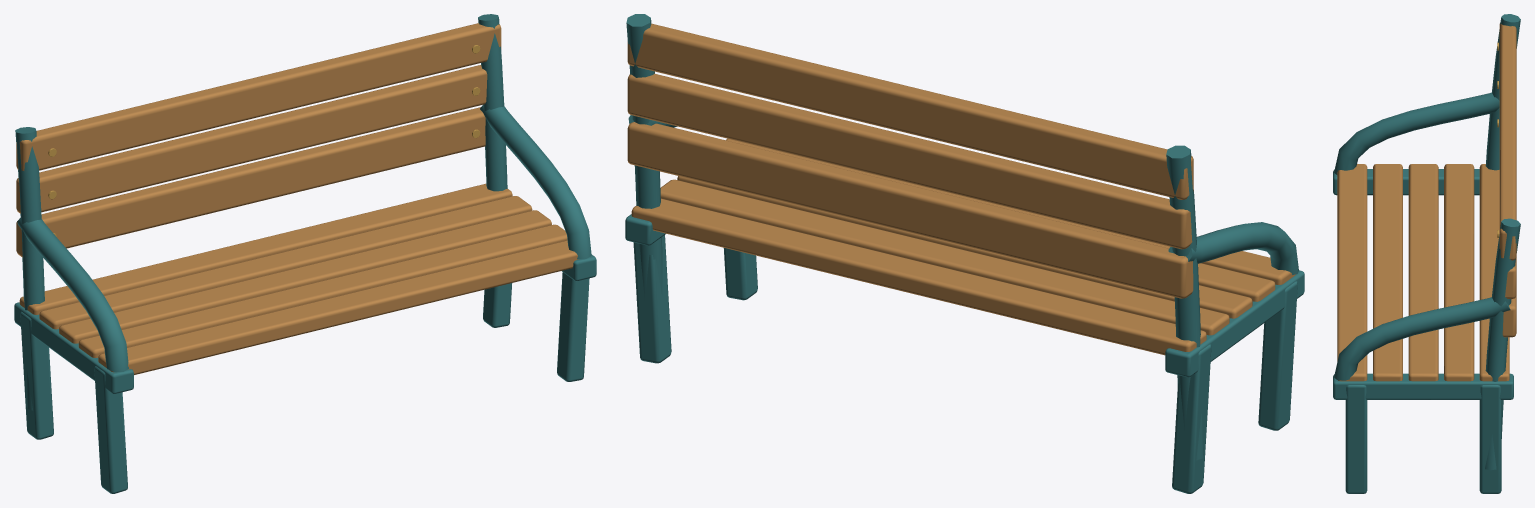
The model's file is PR_Bench.glb.
3 views of the same model, side by side, from view 1: azimuth 30°, elevation 25°; view 2: azimuth 150°, elevation 25°; view 3: azimuth 270°, elevation 25° (orthographic). The views are drawn at different scales.
Visible parts, largest first — view 1: PR_Bench_LOD0; view 2: PR_Bench_LOD0; view 3: PR_Bench_LOD0.
Part boxes in pixels (box(x1,y1,x2,y2)): PR_Bench_LOD0: box(14, 14, 596, 493); PR_Bench_LOD0: box(625, 14, 1304, 493); PR_Bench_LOD0: box(1333, 14, 1520, 493).
Size of the model in its own units: 1.75 by 1.03 by 0.6437.
1 material, 1 textured.
